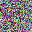baseballfield: (11, 14, 20, 25)
basketballcourt: (7, 12, 19, 31)
bridge: (4, 6, 21, 23)
